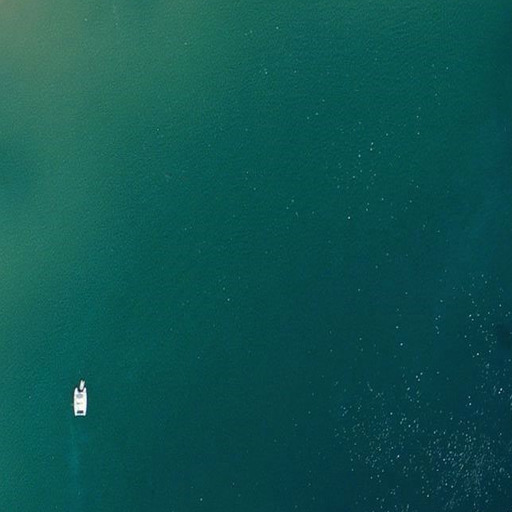ship: (72, 378, 89, 421)
